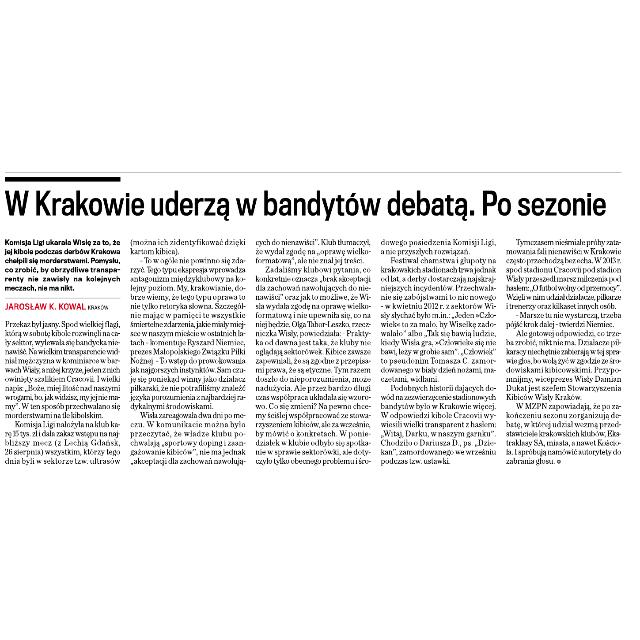author: (3, 300, 87, 312)
body: (502, 234, 626, 466), (376, 234, 499, 466), (252, 234, 372, 466), (130, 234, 248, 466), (2, 317, 124, 465)
lead: (3, 234, 125, 292)
title: (6, 183, 614, 223)
